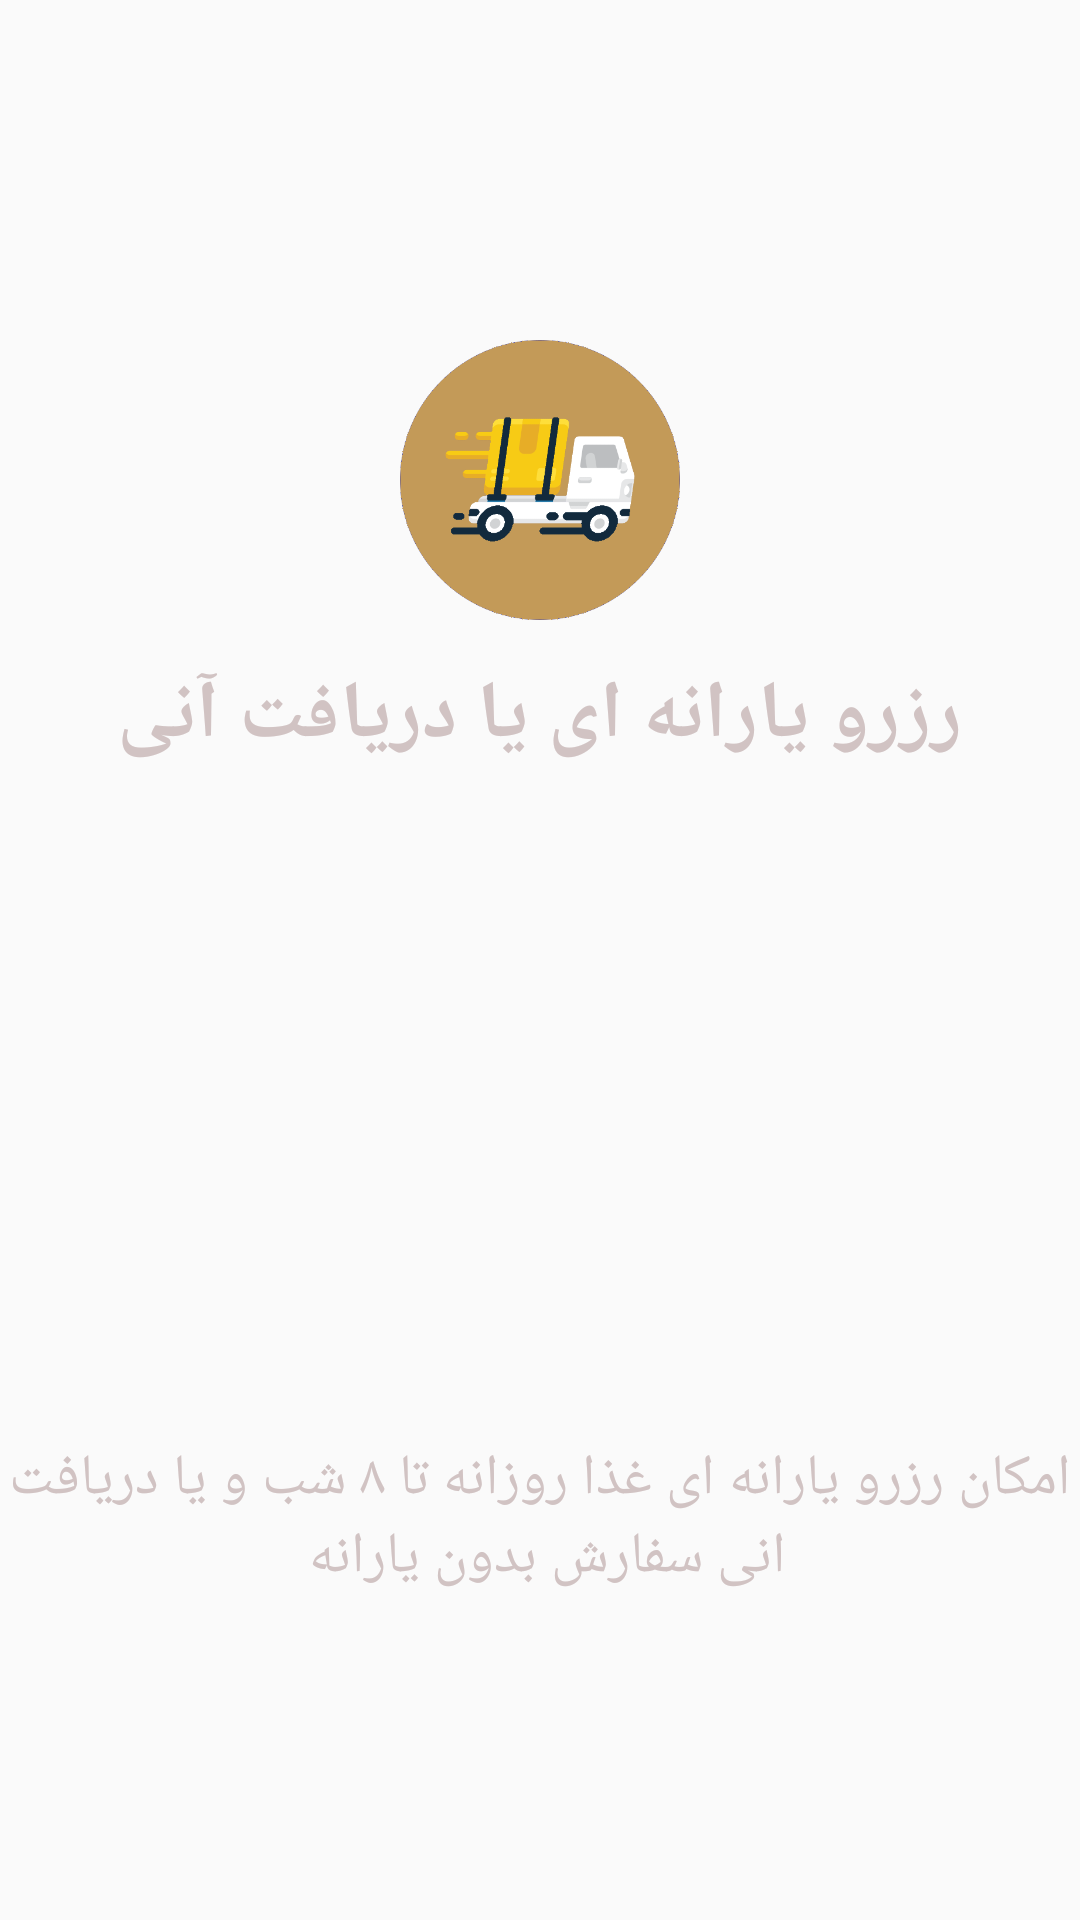

Screen size 1080 × 1920. Icon name, then its box in pixels as [x1=x1, y1=y1, x2=x2, y2=y2]:
delivery: [x1=400, y1=340, x2=680, y2=620]
